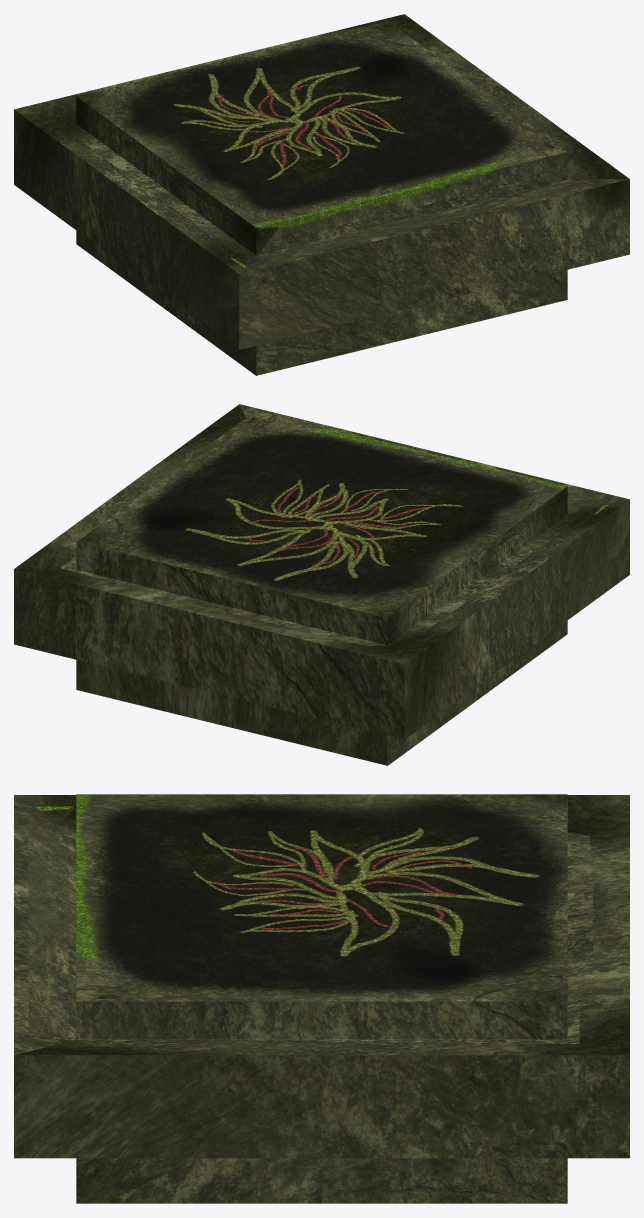
File: note_1.fbx
3 views of the same model, one above another, from view 1: azimuth 30°, elevation 25°; view 2: azimuth 150°, elevation 25°; view 3: azimuth 270°, elevation 25° (orthographic). The views are drawn at different scales.
Parts seen in each view (by area): view 1: Cube; view 2: Cube; view 3: Cube.
Boxes of the visible parts, bbox=[...] form: Cube: bbox=[14, 14, 629, 375]; Cube: bbox=[14, 404, 629, 765]; Cube: bbox=[14, 794, 629, 1203].
Bounding box in the file's own units: 139 × 50.42 × 139.
